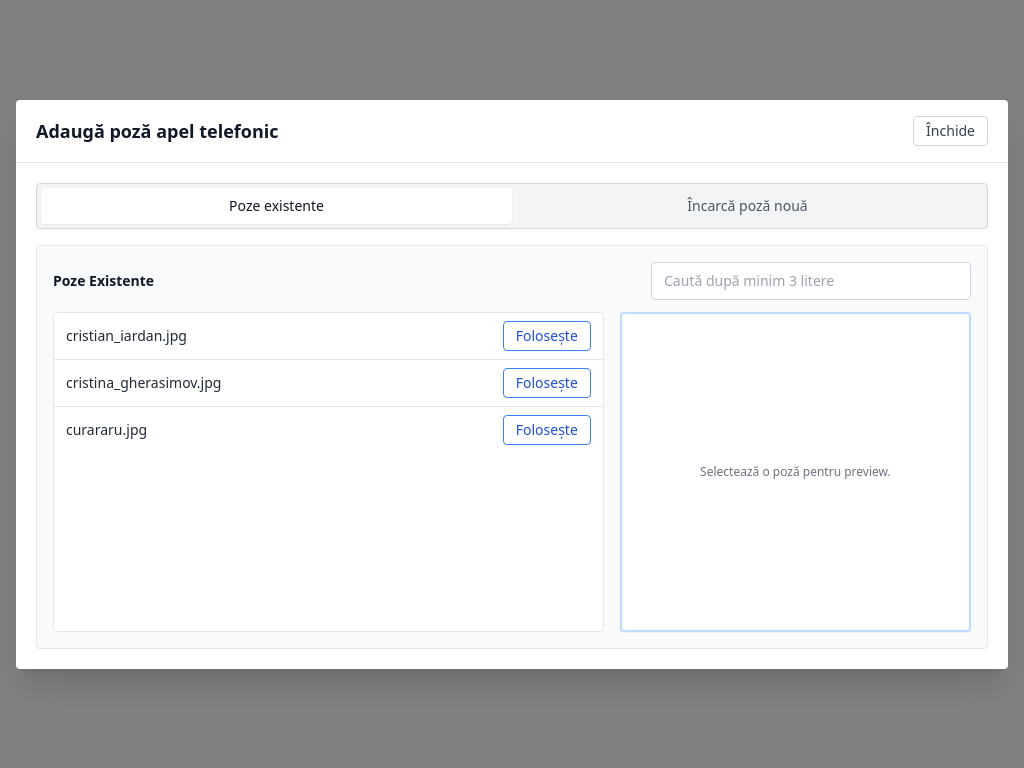
Test case: PhoneImageModal › filters existing images only after at least three search letters
Expected: the button "cristian_iardan.jpg" is shown, [66,326,187,346]
Expected: the button "curararu.jpg" is shown, [66,420,147,440]
Step 1. Type "cu" into the search field named "Caută poze existente" → (811, 280), box [651,262,971,300]
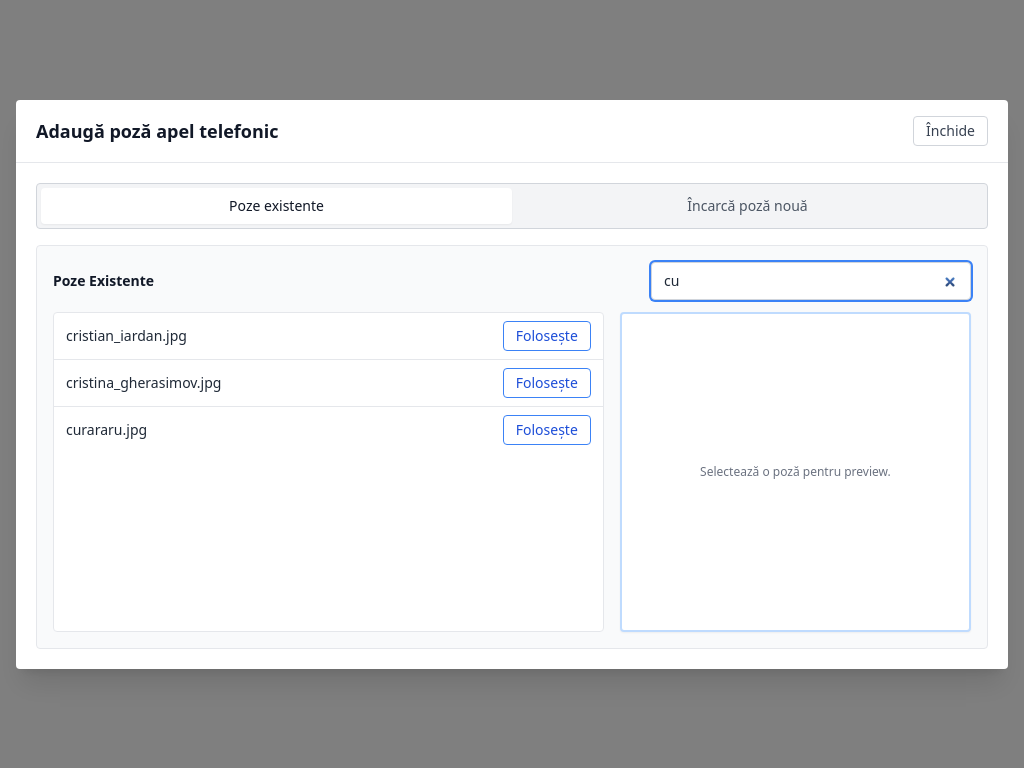
Expected: the button "cristian_iardan.jpg" is shown, [66,326,187,346]
Expected: the button "curararu.jpg" is shown, [66,420,147,440]
Step 2. Type "r" into the search field named "Caută poze existente" → (811, 280), box [651,262,971,300]
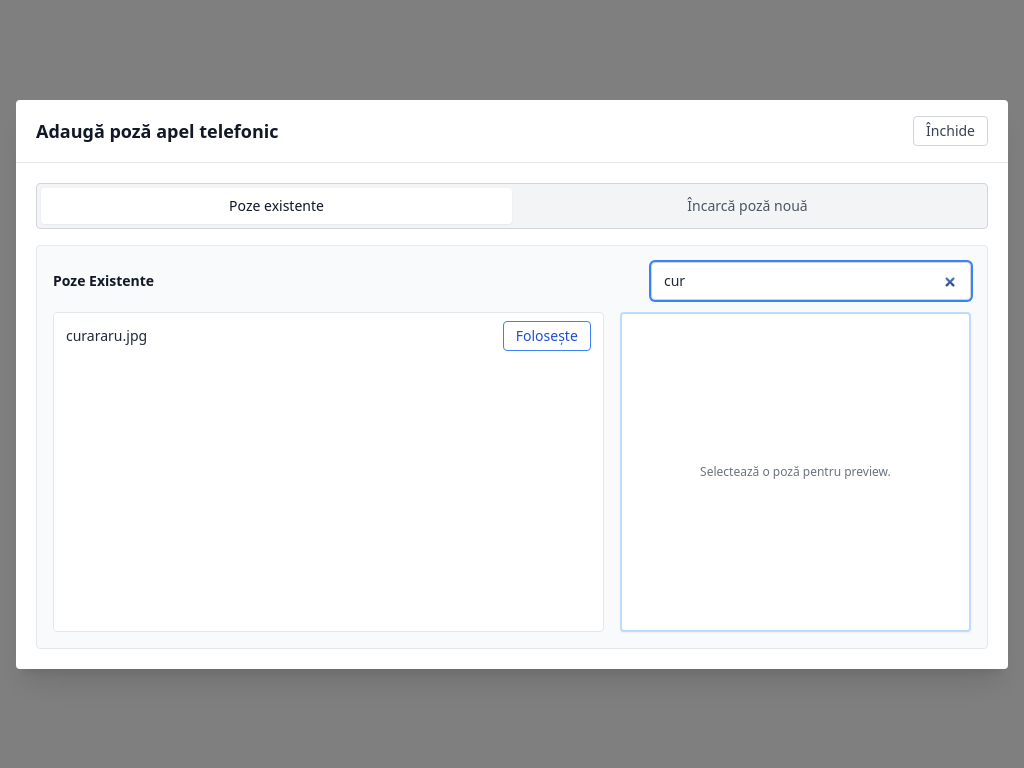
Expected: the button "curararu.jpg" is shown, [66,326,147,346]
Result: the button "cristian_iardan.jpg" is gone
Result: the button "cristina_gherasimov.jpg" is gone
